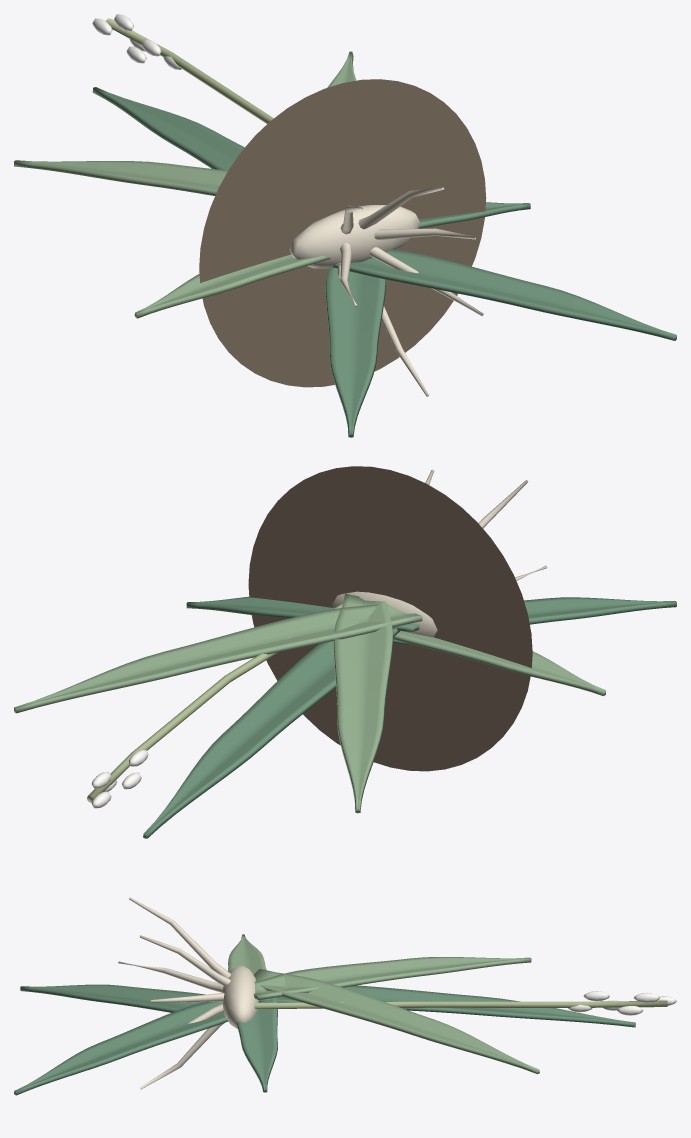
File: snake.glb
3 views of the same model, one above another, from view 1: azimuth 30°, elevation 25°; view 2: azimuth 150°, elevation 25°; view 3: azimuth 270°, elevation 25° (orthographic). The views are drawn at different scales.
Visible parts, largest first — view 1: Part_Soil__soil, Part_Leaf__blade4, Part_Leaf__blade3, Part_Rhizome__rhizome, Part_Leaf__blade1, Part_Leaf__blade0, Part_Leaf__blade5, Part_Scape__scape, Part_Leaf__blade6, Part_Roots__rt0, Part_Roots__rt1, Part_Roots__rt6 (+1 smaller); view 2: Part_Soil__soil, Part_Leaf__blade2, Part_Leaf__blade0, Part_Leaf__blade1, Part_Leaf__blade5, Part_Leaf__blade3, Part_Leaf__blade6, Part_Scape__scape, Part_Rhizome__rhizome; view 3: Part_Leaf__blade2, Part_Leaf__blade4, Part_Leaf__blade1, Part_Leaf__blade0, Part_Leaf__blade3, Part_Scape__scape, Part_Leaf__blade6, Part_Rhizome__rhizome, Part_Leaf__blade5, Part_Roots__rt2, Part_Roots__rt1, Part_Roots__rt3 (+2 smaller).
Boxes of the visible parts, x1,y1,x2,y2 form: Part_Soil__soil: [199, 79, 486, 387]; Part_Leaf__blade4: [332, 249, 676, 340]; Part_Leaf__blade3: [325, 267, 385, 437]; Part_Rhizome__rhizome: [289, 205, 420, 268]; Part_Leaf__blade1: [14, 160, 227, 195]; Part_Leaf__blade0: [92, 87, 244, 170]; Part_Leaf__blade5: [134, 254, 330, 318]; Part_Scape__scape: [106, 18, 273, 123]; Part_Leaf__blade6: [418, 202, 530, 228]; Part_Roots__rt0: [374, 228, 475, 239]; Part_Roots__rt1: [358, 187, 444, 229]; Part_Roots__rt6: [369, 247, 483, 316]; Part_Soil__soil: [248, 466, 532, 771]; Part_Leaf__blade2: [14, 604, 422, 713]; Part_Leaf__blade0: [143, 628, 400, 838]; Part_Leaf__blade1: [333, 593, 393, 813]; Part_Leaf__blade5: [393, 631, 605, 695]; Part_Leaf__blade3: [524, 597, 676, 624]; Part_Leaf__blade6: [186, 596, 419, 631]; Part_Scape__scape: [87, 603, 342, 802]; Part_Rhizome__rhizome: [332, 591, 437, 637]; Part_Leaf__blade2: [253, 969, 539, 1074]; Part_Leaf__blade4: [14, 1001, 228, 1095]; Part_Leaf__blade1: [253, 957, 531, 999]; Part_Leaf__blade0: [259, 985, 635, 1027]; Part_Leaf__blade3: [20, 984, 206, 1012]; Part_Scape__scape: [254, 1000, 667, 1008]; Part_Leaf__blade6: [236, 997, 277, 1092]; Part_Rhizome__rhizome: [222, 966, 258, 1029]; Part_Leaf__blade5: [228, 934, 266, 974]; Part_Roots__rt2: [129, 897, 231, 977]; Part_Roots__rt1: [139, 935, 230, 986]; Part_Roots__rt3: [118, 961, 223, 992].
Bounding box in the file's own units: 1.42 × 1 × 2.58.
